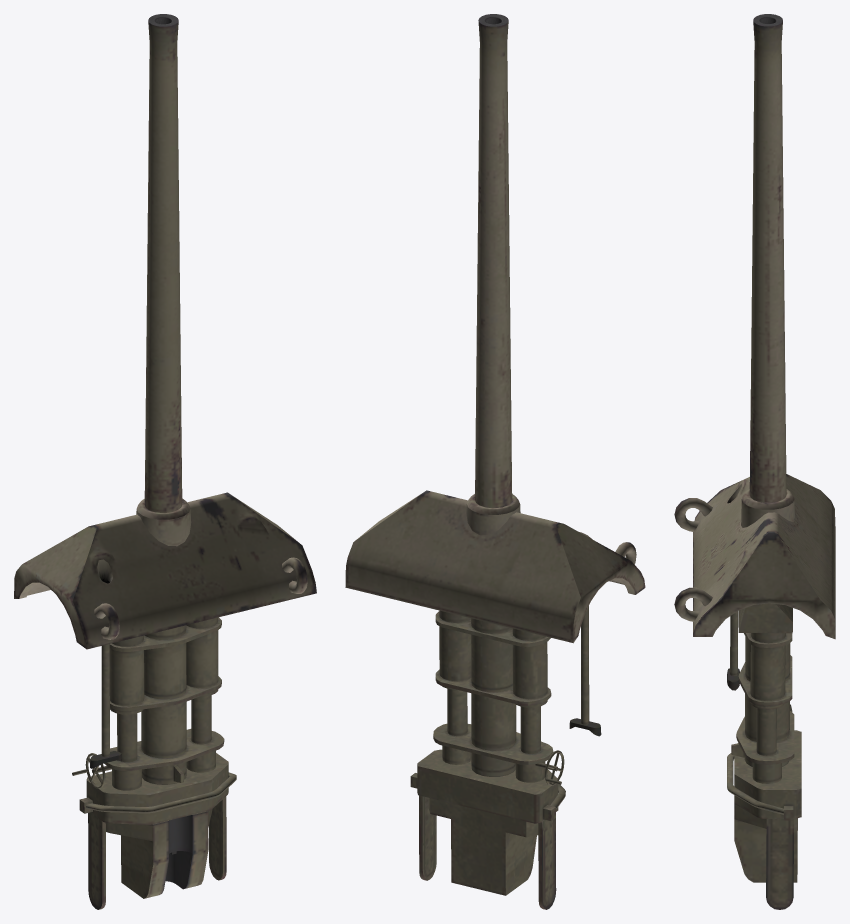
The model's file is Gun_01.glb.
The picture shows the model from 3 angles, left to right: view 1: azimuth 30°, elevation 25°; view 2: azimuth 150°, elevation 25°; view 3: azimuth 270°, elevation 25°; orthographic projection. The views are drawn at different scales.
Visible parts, largest first — view 1: set_0_group_0; view 2: set_0_group_0; view 3: set_0_group_0.
Part boxes in pixels (x1,y1,x2,y2): set_0_group_0: (14, 14, 316, 909); set_0_group_0: (345, 14, 645, 909); set_0_group_0: (674, 14, 835, 909).
Size of the model in its own units: 1.18 by 4.31 by 0.7329.
Materials: 1 (1 with a texture image).
